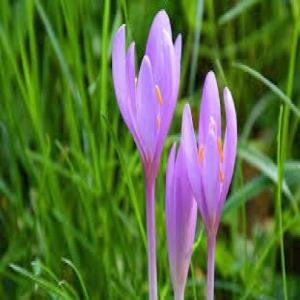Saffron: (113, 9, 181, 181), (181, 69, 237, 238), (166, 132, 199, 292)
